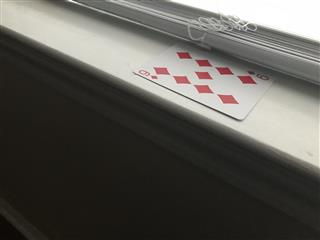NineOfDiamonds: (131, 41, 275, 120)
